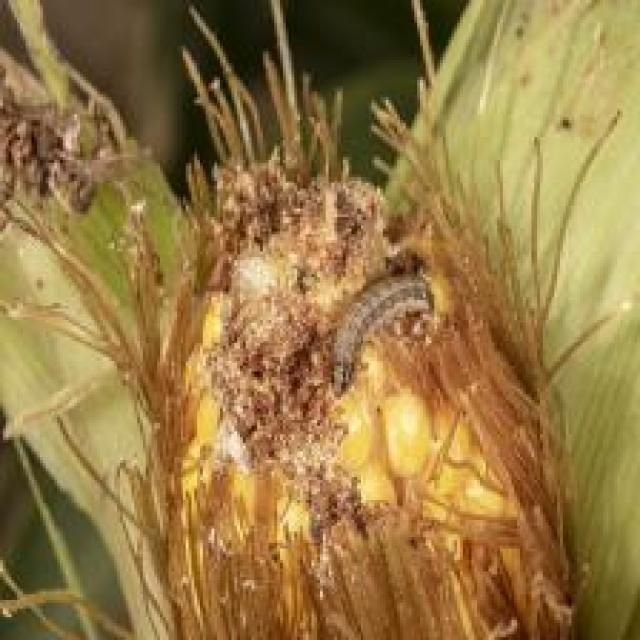Plaga: (320, 264, 445, 415)
